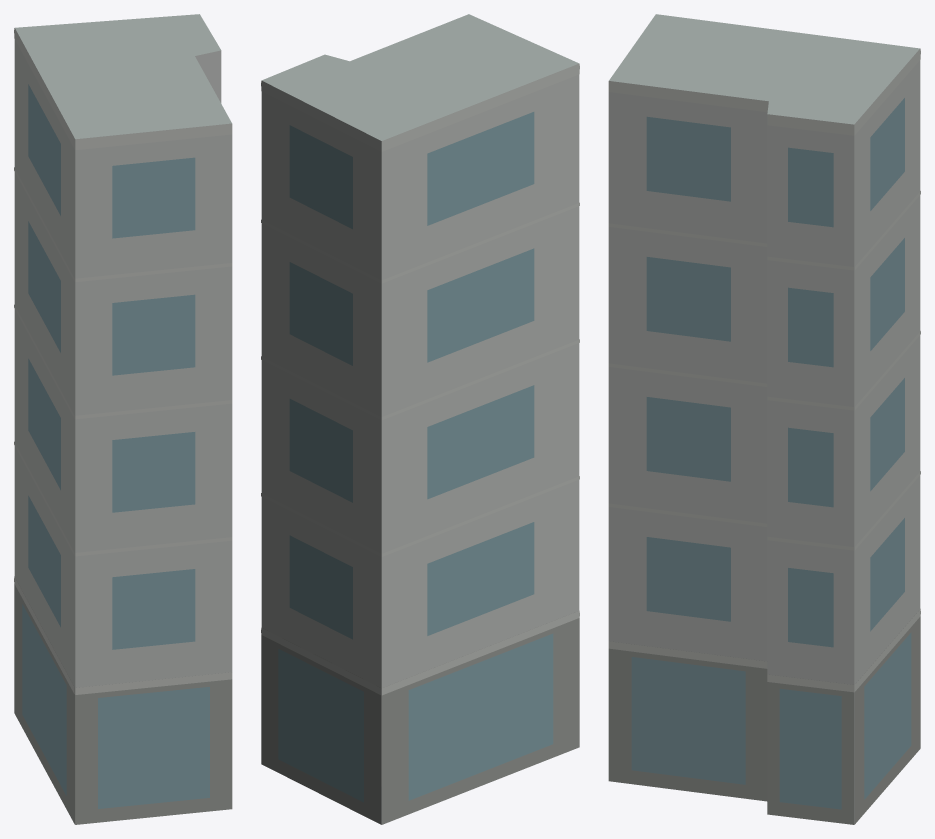
The model's file is survey-upis-32818600.glb.
3 renders of one model, left to right at view 1: azimuth 30°, elevation 25°; view 2: azimuth 150°, elevation 25°; view 3: azimuth 270°, elevation 25°, orthographic. The views are drawn at different scales.
Parts seen in each view (by area): view 1: survey-upis-32818600.tmp; view 2: survey-upis-32818600.tmp; view 3: survey-upis-32818600.tmp.
Part boxes in pixels (<box>): survey-upis-32818600.tmp: <box>14,14,232,824</box>; survey-upis-32818600.tmp: <box>261,14,579,824</box>; survey-upis-32818600.tmp: <box>608,14,920,824</box>.
Size of the model in its own units: 5.19 by 15.25 by 6.17.
